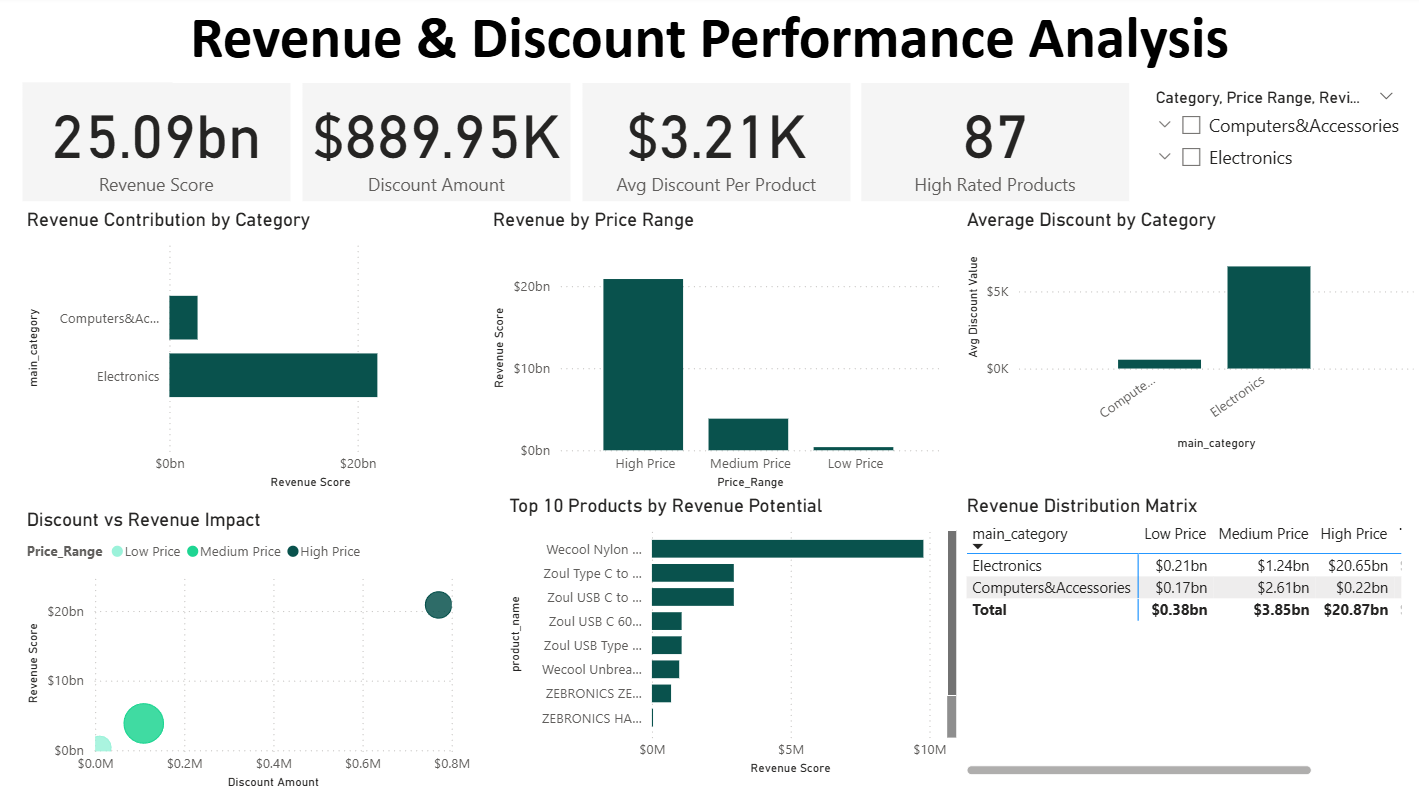

This screenshot's page, from the dashboard's own definition file:
{"tool":"powerbi","page":{"name":"Dashboard 3","canvas":[1280,720],"ordinal":2},"visuals":[{"type":"card","fields":{"Values":["amazon_products_clean_sql.Revenue Score"]},"box":[20.6,78,241.5,107],"z":0},{"type":"card","fields":{"Values":["amazon_products_clean_sql.Discount Amount"]},"box":[272.7,77.6,241.5,107],"z":1},{"type":"card","fields":{"Values":["amazon_products_clean_sql.Avg Discount Value"]},"box":[524.9,77.6,241.5,107],"z":2},{"type":"card","fields":{"Values":["amazon_products_clean_sql.High Review Products"]},"box":[777,77.6,241.5,107],"z":3},{"type":"slicer","fields":{"Values":["amazon_products_clean_sql.main_category","amazon_products_clean_sql.Price_Range","amazon_products_clean_sql.Review_Level","amazon_products_clean_sql.rating","amazon_products_clean_sql.discount_Percentage"]},"box":[1029.2,78.2,240.1,107],"z":4},{"type":"clusteredBarChart","title":"Revenue Contribution by Category","fields":{"Category":["amazon_products_clean_sql.main_category"],"Y":["amazon_products_clean_sql.Revenue Score"]},"box":[19.2,192.1,410.3,258],"z":5},{"type":"columnChart","title":"Revenue by Price Range","fields":{"Category":["amazon_products_clean_sql.Price_Range"],"Y":["amazon_products_clean_sql.Revenue Score"]},"box":[439.1,192.1,413,258],"z":6},{"type":"scatterChart","title":"Discount vs Revenue Impact","fields":{"X":["amazon_products_clean_sql.Discount Amount"],"Y":["amazon_products_clean_sql.Revenue Score"],"Series":["amazon_products_clean_sql.Price_Range"],"Size":["CountNonNull(amazon_products_clean_sql.product_id)"]},"box":[19.2,462.4,410.3,258],"z":7},{"type":"clusteredBarChart","title":"Top 10 Products by Revenue Potential","fields":{"Category":["amazon_products_clean_sql.product_name"],"Y":["amazon_products_clean_sql.Revenue Score"]},"box":[454.2,450.1,413,258],"z":8},{"type":"columnChart","title":"Average Discount by Category","fields":{"Category":["amazon_products_clean_sql.main_category"],"Y":["amazon_products_clean_sql.Avg Discount Value"]},"box":[867.2,192.1,413,222.3],"z":9},{"type":"pivotTable","title":"Revenue Distribution Matrix","fields":{"Rows":["amazon_products_clean_sql.main_category"],"Columns":["amazon_products_clean_sql.Price_Range"],"Values":["amazon_products_clean_sql.Revenue Score"]},"box":[867.2,450.1,402.1,258],"z":10},{"type":"textbox","box":[155.1,0,968.8,78.2],"z":11}]}

Visuals, with their boxes in screenshot pixels (x1, y1, x2, y2), scaled from the page's 1280x720 canvas onto the 1419x788 screenshot:
card - amazon_products_clean_sql.Revenue Score: 23/85/291/202
card - amazon_products_clean_sql.Discount Amount: 302/85/570/202
card - amazon_products_clean_sql.Avg Discount Value: 582/85/850/202
card - amazon_products_clean_sql.High Review Products: 861/85/1129/202
slicer - amazon_products_clean_sql.main_category x amazon_products_clean_sql.Price_Range: 1141/86/1407/203
"Revenue Contribution by Category" clusteredBarChart: 21/210/476/493
"Revenue by Price Range" columnChart: 487/210/945/493
"Discount vs Revenue Impact" scatterChart: 21/506/476/787
"Top 10 Products by Revenue Potential" clusteredBarChart: 504/493/961/775
"Average Discount by Category" columnChart: 961/210/1418/454
"Revenue Distribution Matrix" pivotTable: 961/493/1407/775
textbox: 172/0/1246/86
